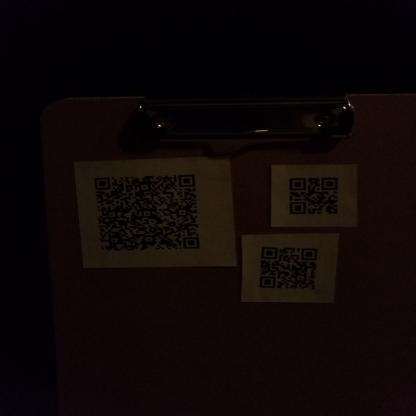qr: (92, 170, 207, 254), (256, 244, 318, 289), (287, 173, 343, 216)
